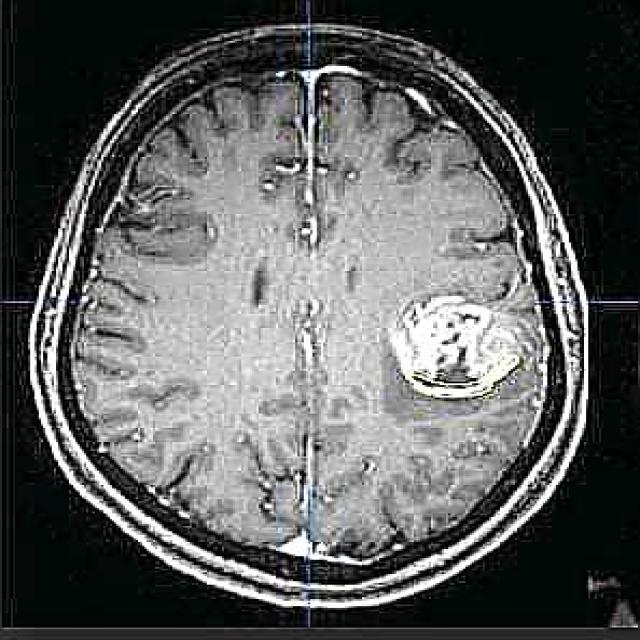Tumor-Cell: (384, 278, 519, 404)
